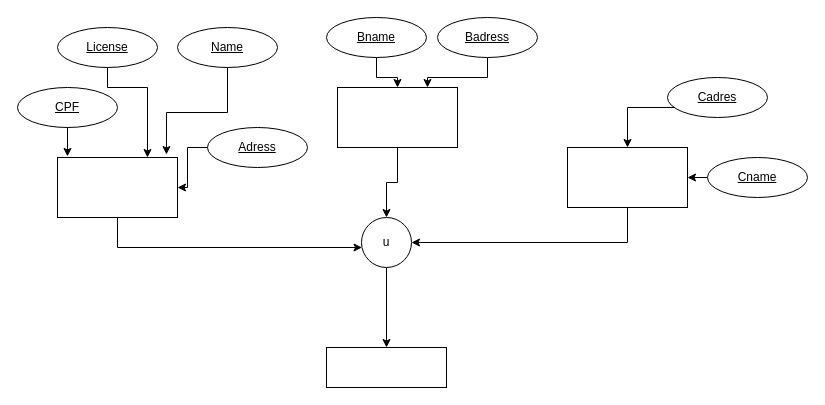
Some shapes in this 825 by 405 pixel diagram are drawn without their labels. The centre of each missing label's shape, as x and y in pixels:
Bank: (x=397, y=117)
Company: (x=627, y=177)
Owner: (x=386, y=367)
Person: (x=117, y=187)
